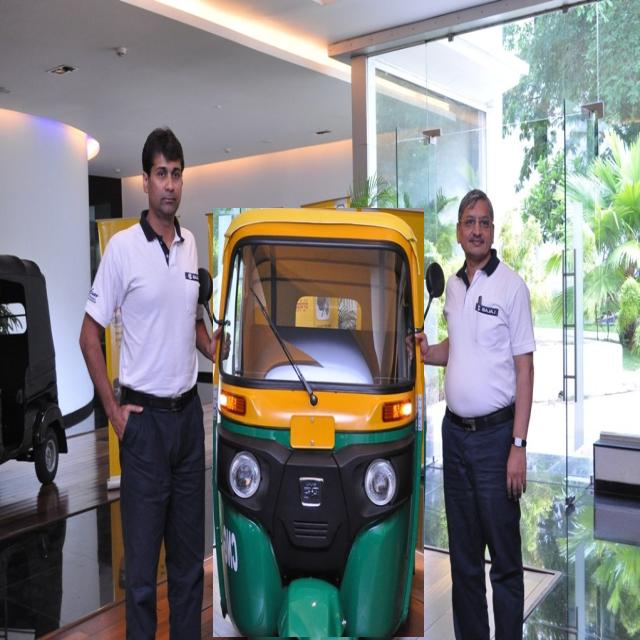autorickshaw: (214, 209, 424, 637)
